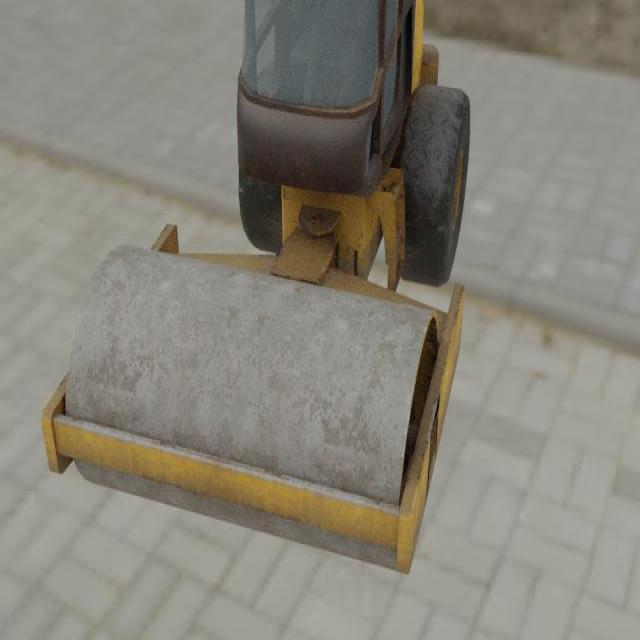Roller: (40, 0, 470, 576)
